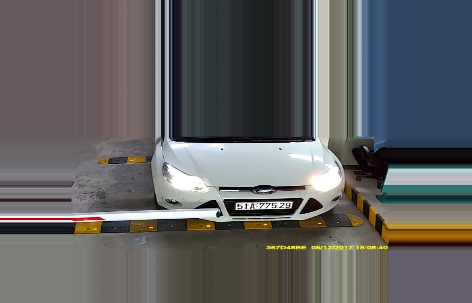plate: (235, 199, 292, 211)
